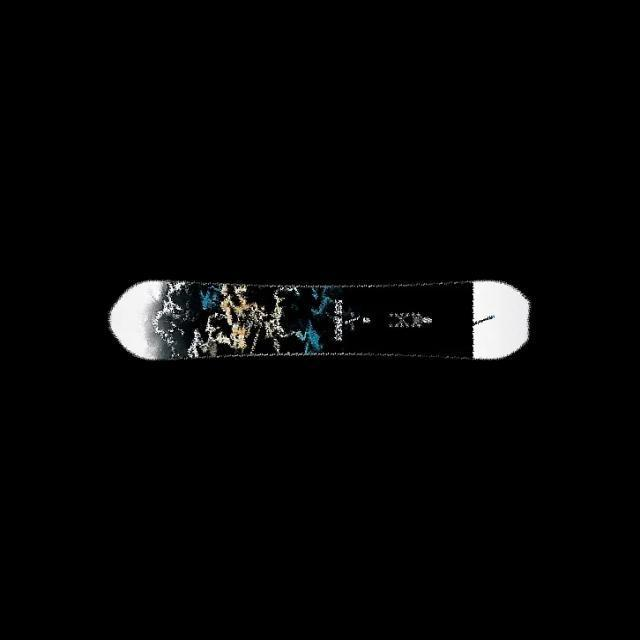Snowboard: (107, 278, 531, 361)
